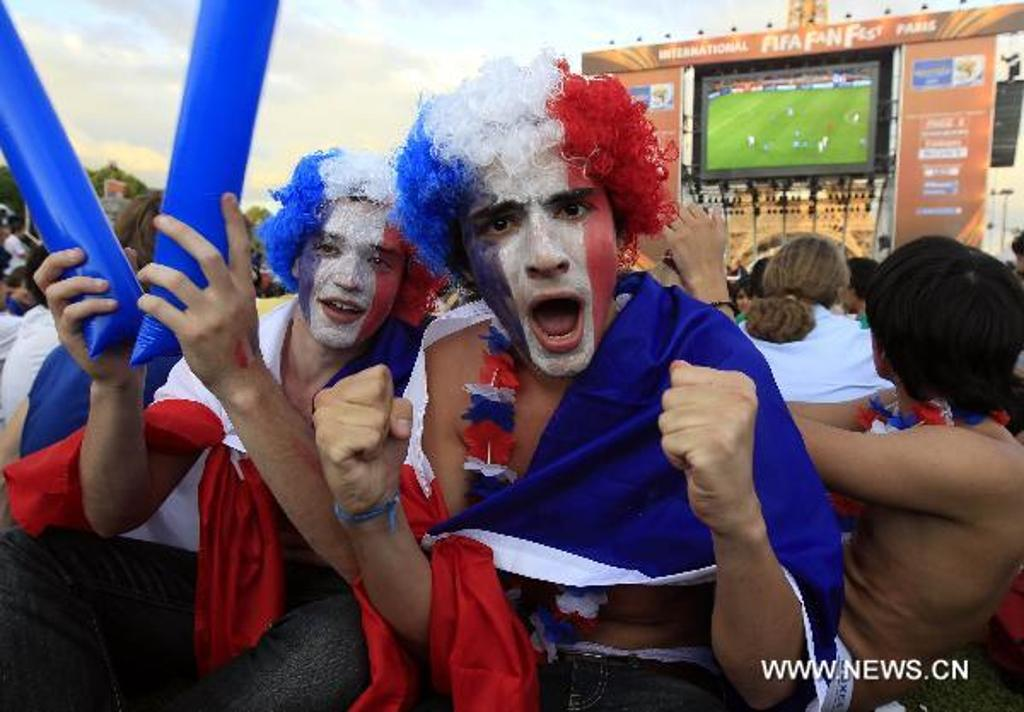face: (450, 178, 618, 378), (306, 202, 402, 346)
